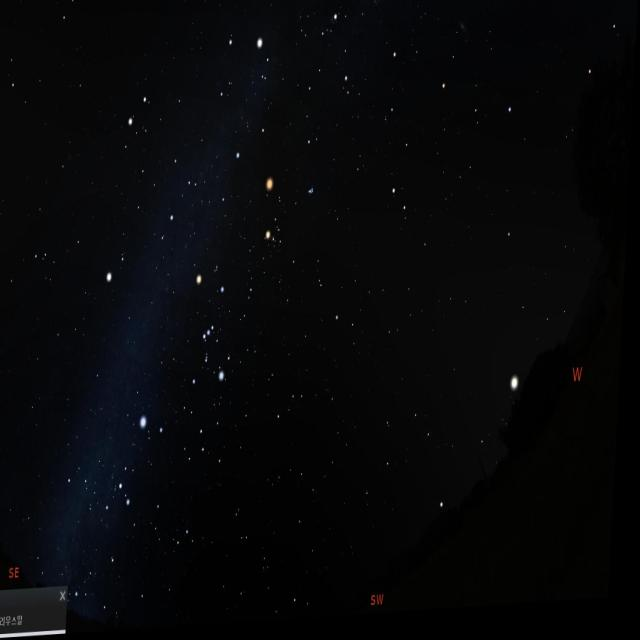canis_major: (110, 408, 167, 516)
canis_minor: (102, 245, 128, 300)
gemini: (120, 82, 212, 234)
orion: (182, 264, 245, 396)
pleiades: (308, 192, 320, 203)
taurus: (262, 185, 332, 286)
